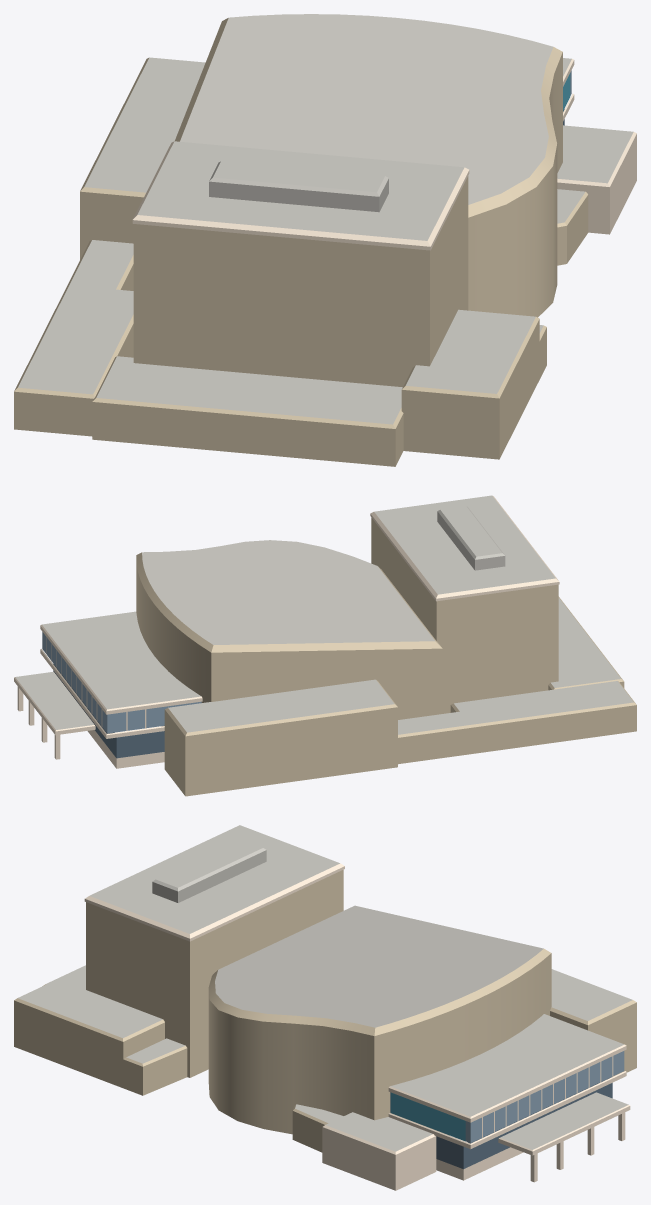
The picture shows the model from 3 angles, top to bottom: view 1: azimuth 30°, elevation 25°; view 2: azimuth 150°, elevation 25°; view 3: azimuth 270°, elevation 25°; orthographic projection. The views are drawn at different scales.
Visible parts, largest first — view 1: ovens-auditorium; view 2: ovens-auditorium; view 3: ovens-auditorium.
Boxes of the visible parts, bbox=[...] form: ovens-auditorium: bbox=[14, 14, 636, 466]; ovens-auditorium: bbox=[14, 495, 636, 796]; ovens-auditorium: bbox=[14, 825, 636, 1190].
Bounding box in the file's own units: 90.92 × 24.8 × 89.45.
